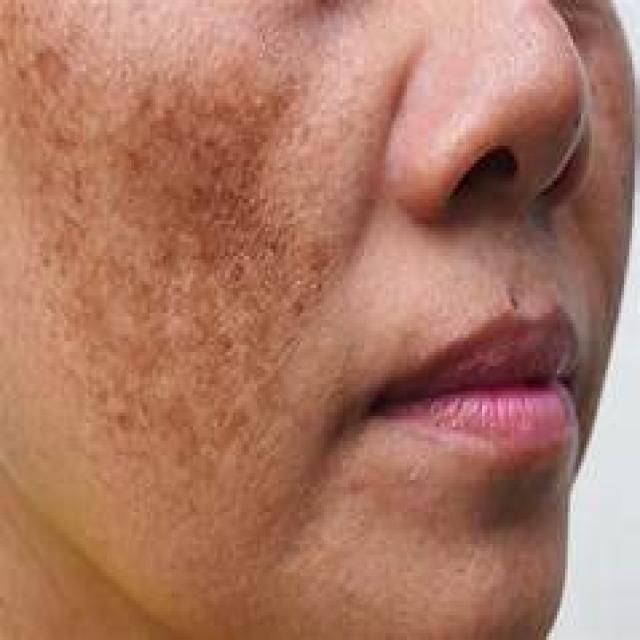pigmentation: (57, 87, 321, 377)
